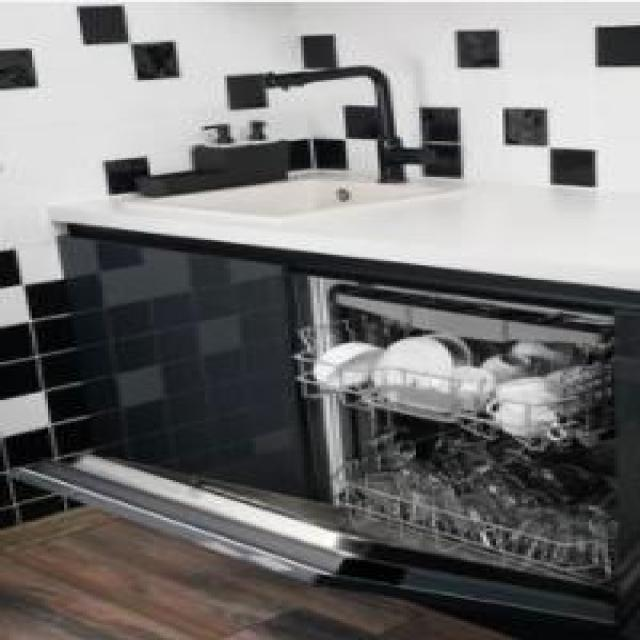dishwasher: (9, 267, 634, 600)
